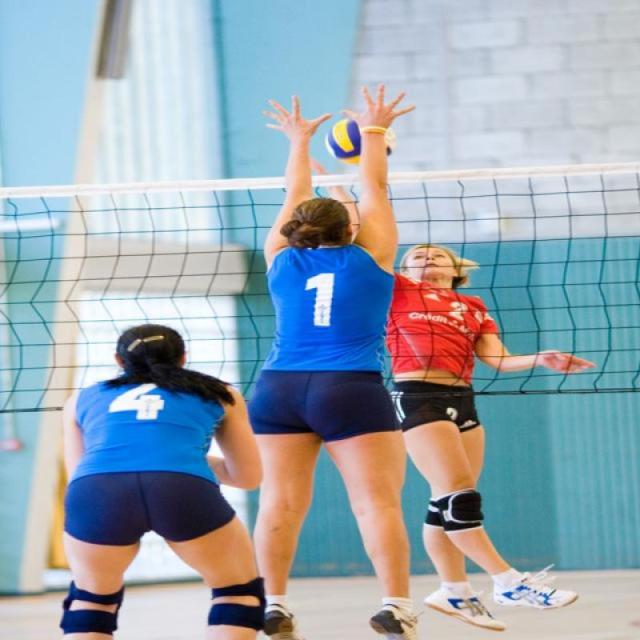volleyball: (322, 115, 396, 163)
